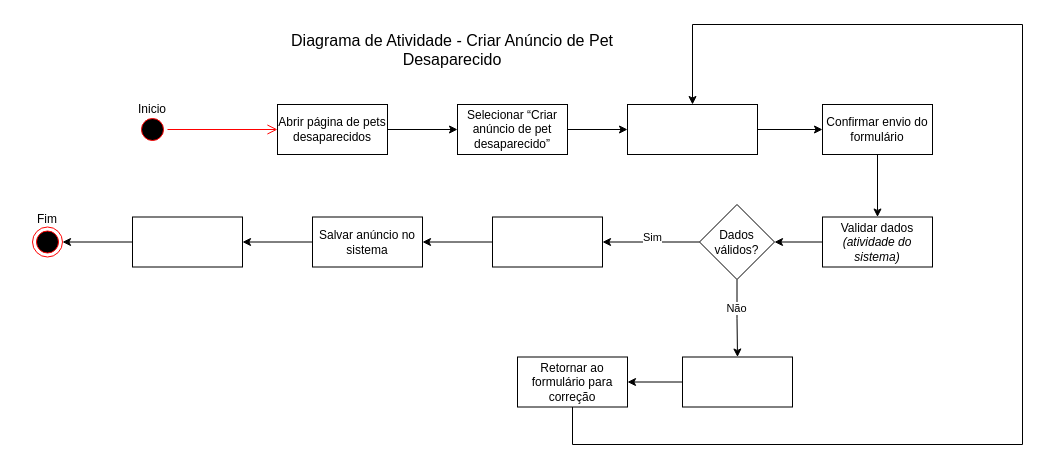
Some shapes in this 1048 by 470 pixel diagram are drawn without their labels. The shapes that lost their labels are listed below. From the top down, each one's centre as x and y in pixels, then its label:
At (692,129): "Preencher informações do tutor e do pet desaparecido".
At (187,241): "Exibir mensagem de sucesso".
At (547,241): "Criar entidade PetDesaparecido".
At (737,381): "Exibir mensagem de erro".
